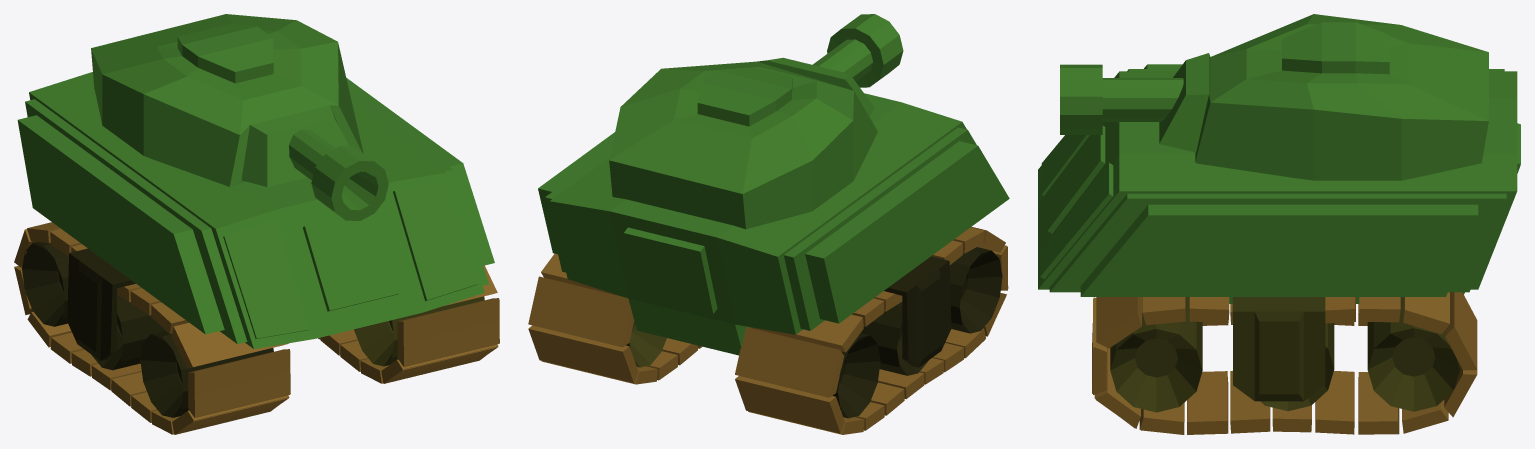
Rendered from Tank.fbx.
3 views of the same model, side by side, from view 1: azimuth 30°, elevation 25°; view 2: azimuth 150°, elevation 25°; view 3: azimuth 270°, elevation 25° (orthographic). The views are drawn at different scales.
Visible parts, largest first — view 1: Cube.002, Cube.000, Cylinder.001, a, Cylinder; view 2: Cube.002, Cube.000, Cylinder.001, a, Cylinder; view 3: Cube.002, Cylinder, a.
Part boxes in pixels (bbox=[...]): Cube.002: bbox=[17, 14, 494, 348]; Cube.000: bbox=[14, 222, 290, 434]; Cylinder.001: bbox=[22, 242, 273, 417]; a: bbox=[318, 265, 499, 383]; Cylinder: bbox=[354, 296, 484, 366]; Cube.002: bbox=[538, 14, 1009, 355]; Cube.000: bbox=[735, 226, 1008, 434]; Cylinder.001: bbox=[832, 247, 1002, 418]; a: bbox=[528, 253, 702, 384]; Cylinder: bbox=[626, 321, 666, 367]; Cube.002: bbox=[1038, 14, 1520, 303]; Cylinder: bbox=[1110, 297, 1459, 412]; a: bbox=[1092, 292, 1477, 434].
Bounding box in the file's own units: 897 × 746 × 1045.
